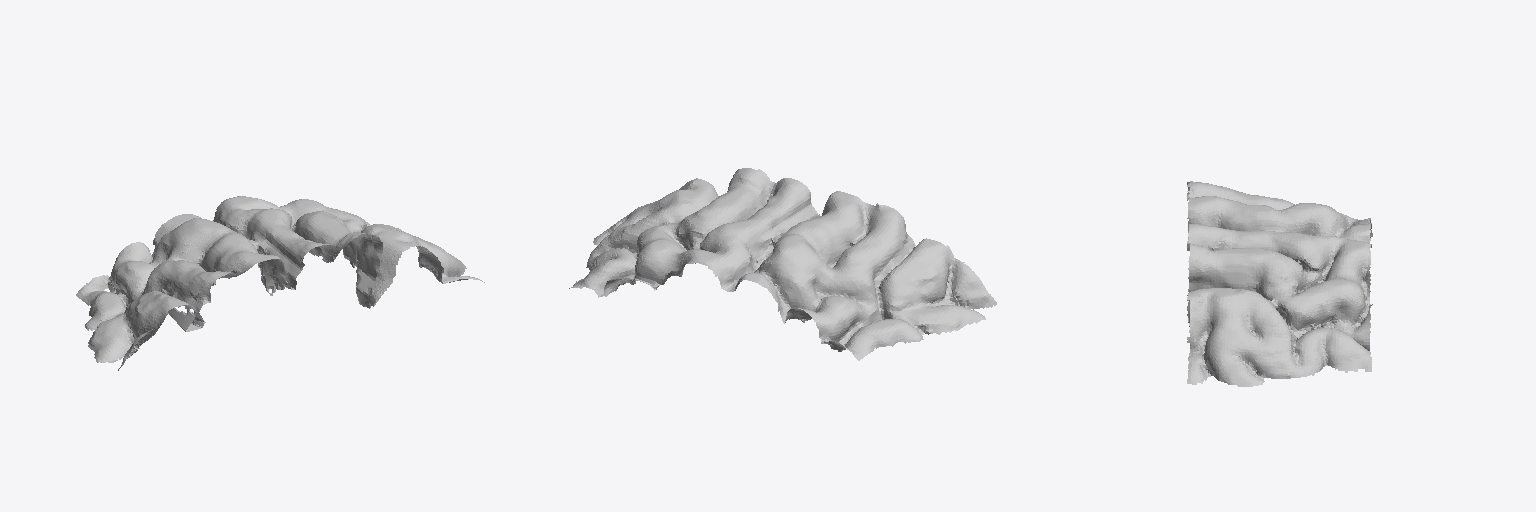
The model's file is cortex_0_1.obj.
3 renders of one model, left to right at view 1: azimuth 30°, elevation 25°; view 2: azimuth 150°, elevation 25°; view 3: azimuth 270°, elevation 25°, orthographic.
Visible parts, largest first — view 1: Cortex_0_1_Mehrdad_SagT1_Cortex_v1_No_Smooth_OBJ.000_Mehrda.000; view 2: Cortex_0_1_Mehrdad_SagT1_Cortex_v1_No_Smooth_OBJ.000_Mehrda.000; view 3: Cortex_0_1_Mehrdad_SagT1_Cortex_v1_No_Smooth_OBJ.000_Mehrda.000.
Boxes of the visible parts, x1,y1,x2,y2 form: Cortex_0_1_Mehrdad_SagT1_Cortex_v1_No_Smooth_OBJ.000_Mehrda.000: [76, 196, 484, 370]; Cortex_0_1_Mehrdad_SagT1_Cortex_v1_No_Smooth_OBJ.000_Mehrda.000: [569, 168, 996, 360]; Cortex_0_1_Mehrdad_SagT1_Cortex_v1_No_Smooth_OBJ.000_Mehrda.000: [1187, 181, 1372, 386].
Size of the model in its own units: 92.72 by 18.66 by 39.59.